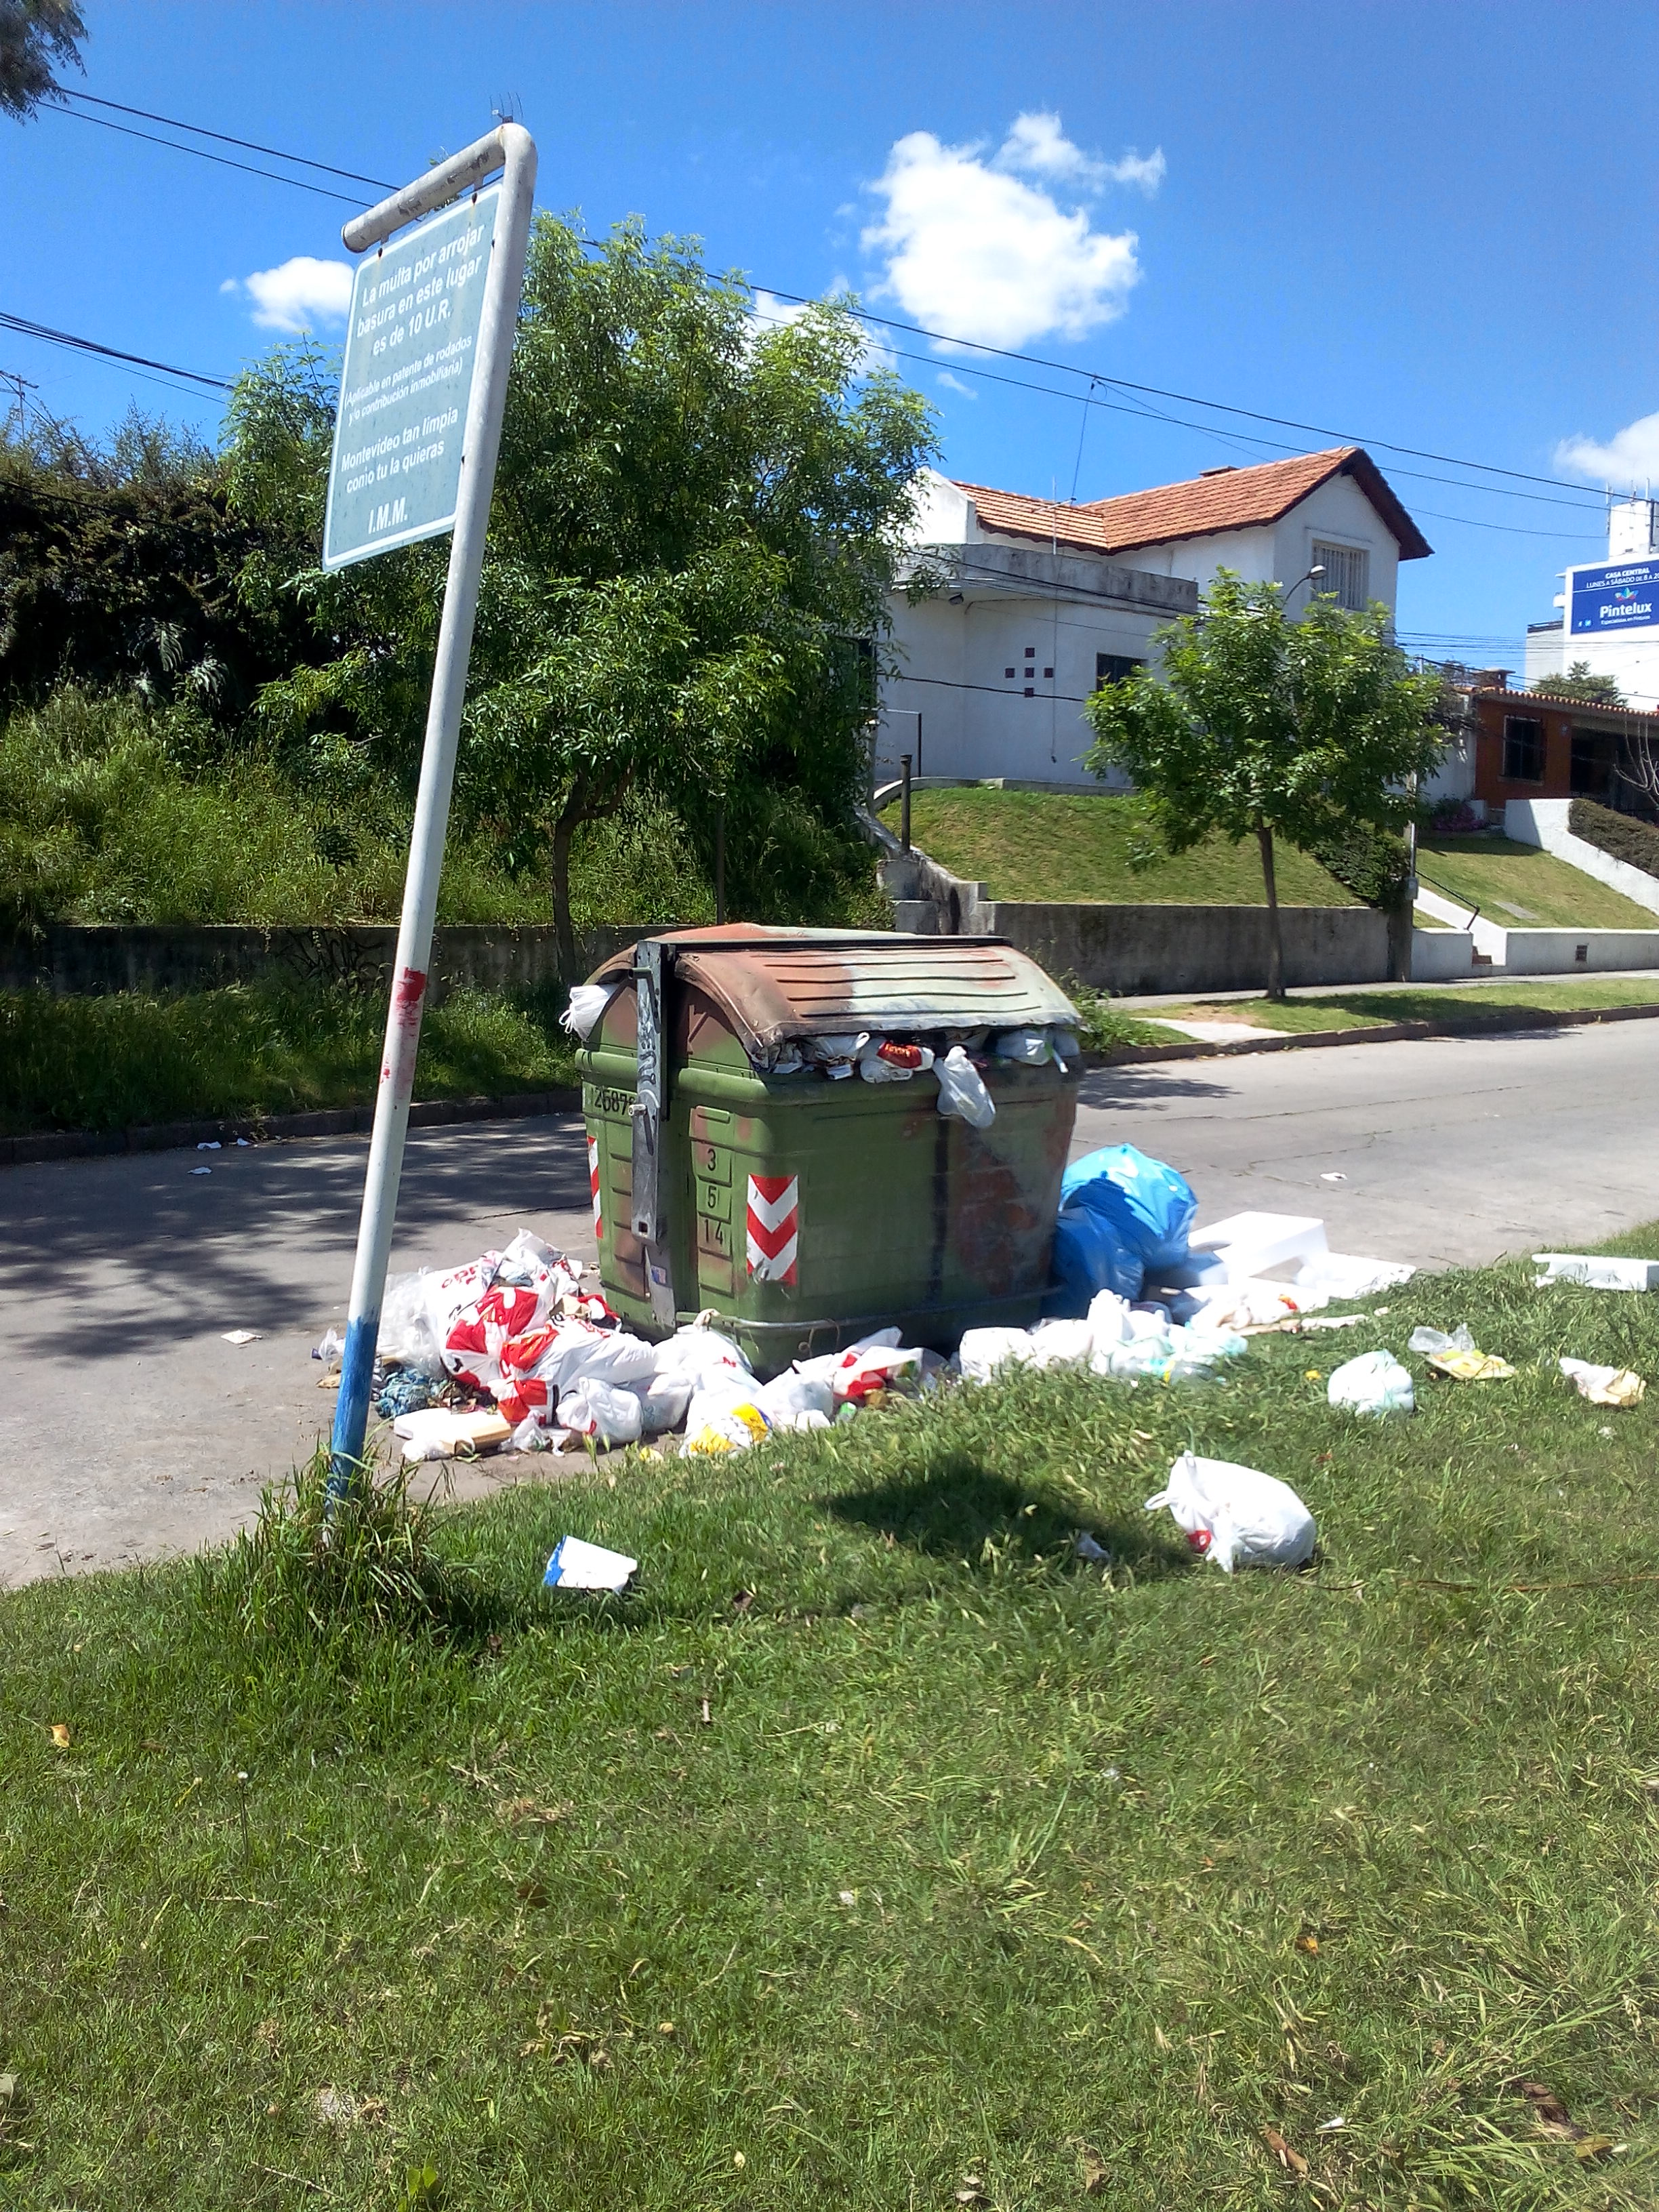container: (579, 911, 1105, 1388)
